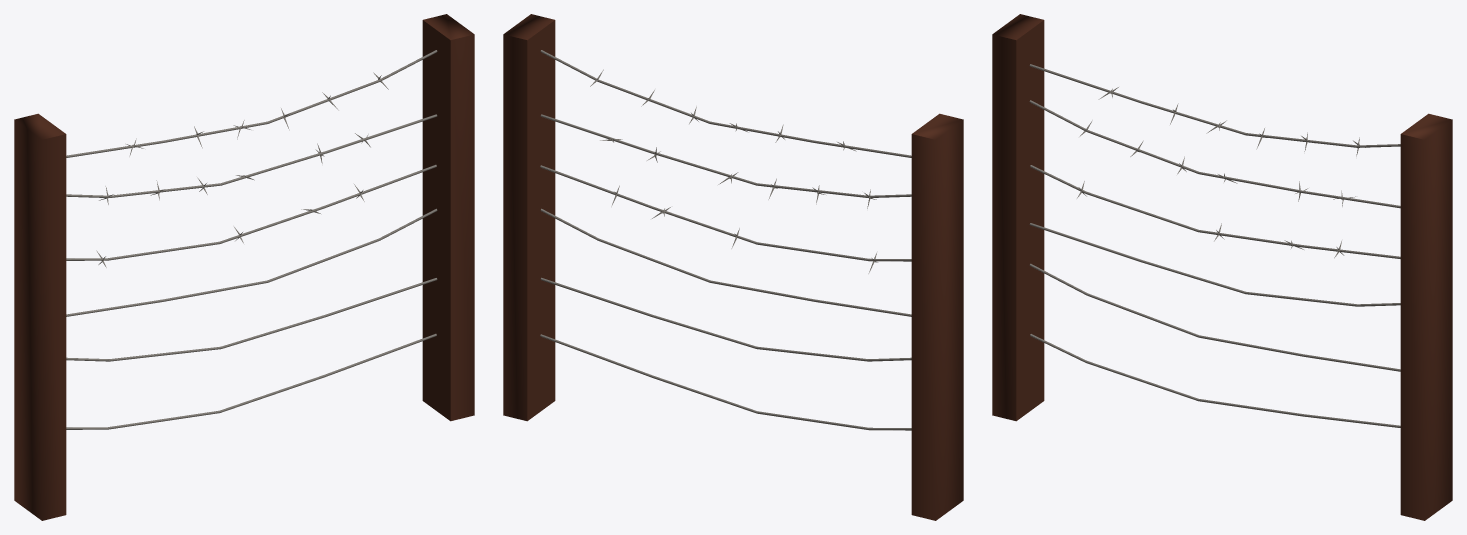
Rendered from koluchka 1.fbx.
The picture shows the model from 3 angles, left to right: view 1: azimuth 30°, elevation 25°; view 2: azimuth 150°, elevation 25°; view 3: azimuth 330°, elevation 25°; orthographic projection.
Visible parts, largest first — view 1: Столоб2, Столб1, Проволока; view 2: Столоб2, Столб1, Проволока; view 3: Столб1, Столоб2, Проволока.
Part boxes in pixels (box(x1,y1,x2,y2)): Столоб2: box(14, 113, 66, 520); Столб1: box(422, 14, 474, 421); Проволока: box(66, 50, 437, 429); Столоб2: box(911, 113, 963, 520); Столб1: box(503, 14, 555, 421); Проволока: box(540, 50, 911, 430); Столб1: box(1400, 113, 1452, 520); Столоб2: box(992, 14, 1044, 421); Проволока: box(1029, 64, 1400, 427).
Bounding box in the file's own units: 400 × 337 × 44.59.
